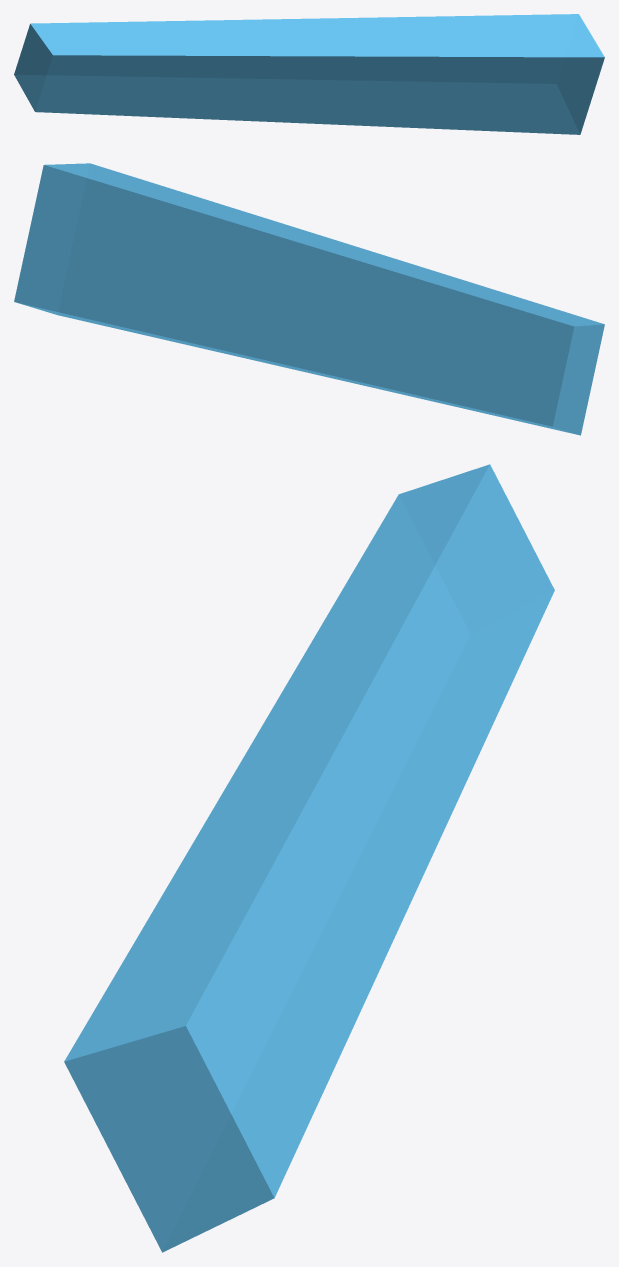
File: Event_420094457_HErechit_37.fbx
3 views of the same model, one above another, from view 1: azimuth 30°, elevation 25°; view 2: azimuth 150°, elevation 25°; view 3: azimuth 270°, elevation 25° (orthographic). The views are drawn at different scales.
Parts seen in each view (by area): view 1: Model; view 2: Model; view 3: Model.
Part boxes in pixels (<box>): Model: <box>14,14,604,134</box>; Model: <box>14,163,604,435</box>; Model: <box>64,464,554,1252</box>.
Size of the model in its own units: 3.74 by 1.25 by 1.68.
